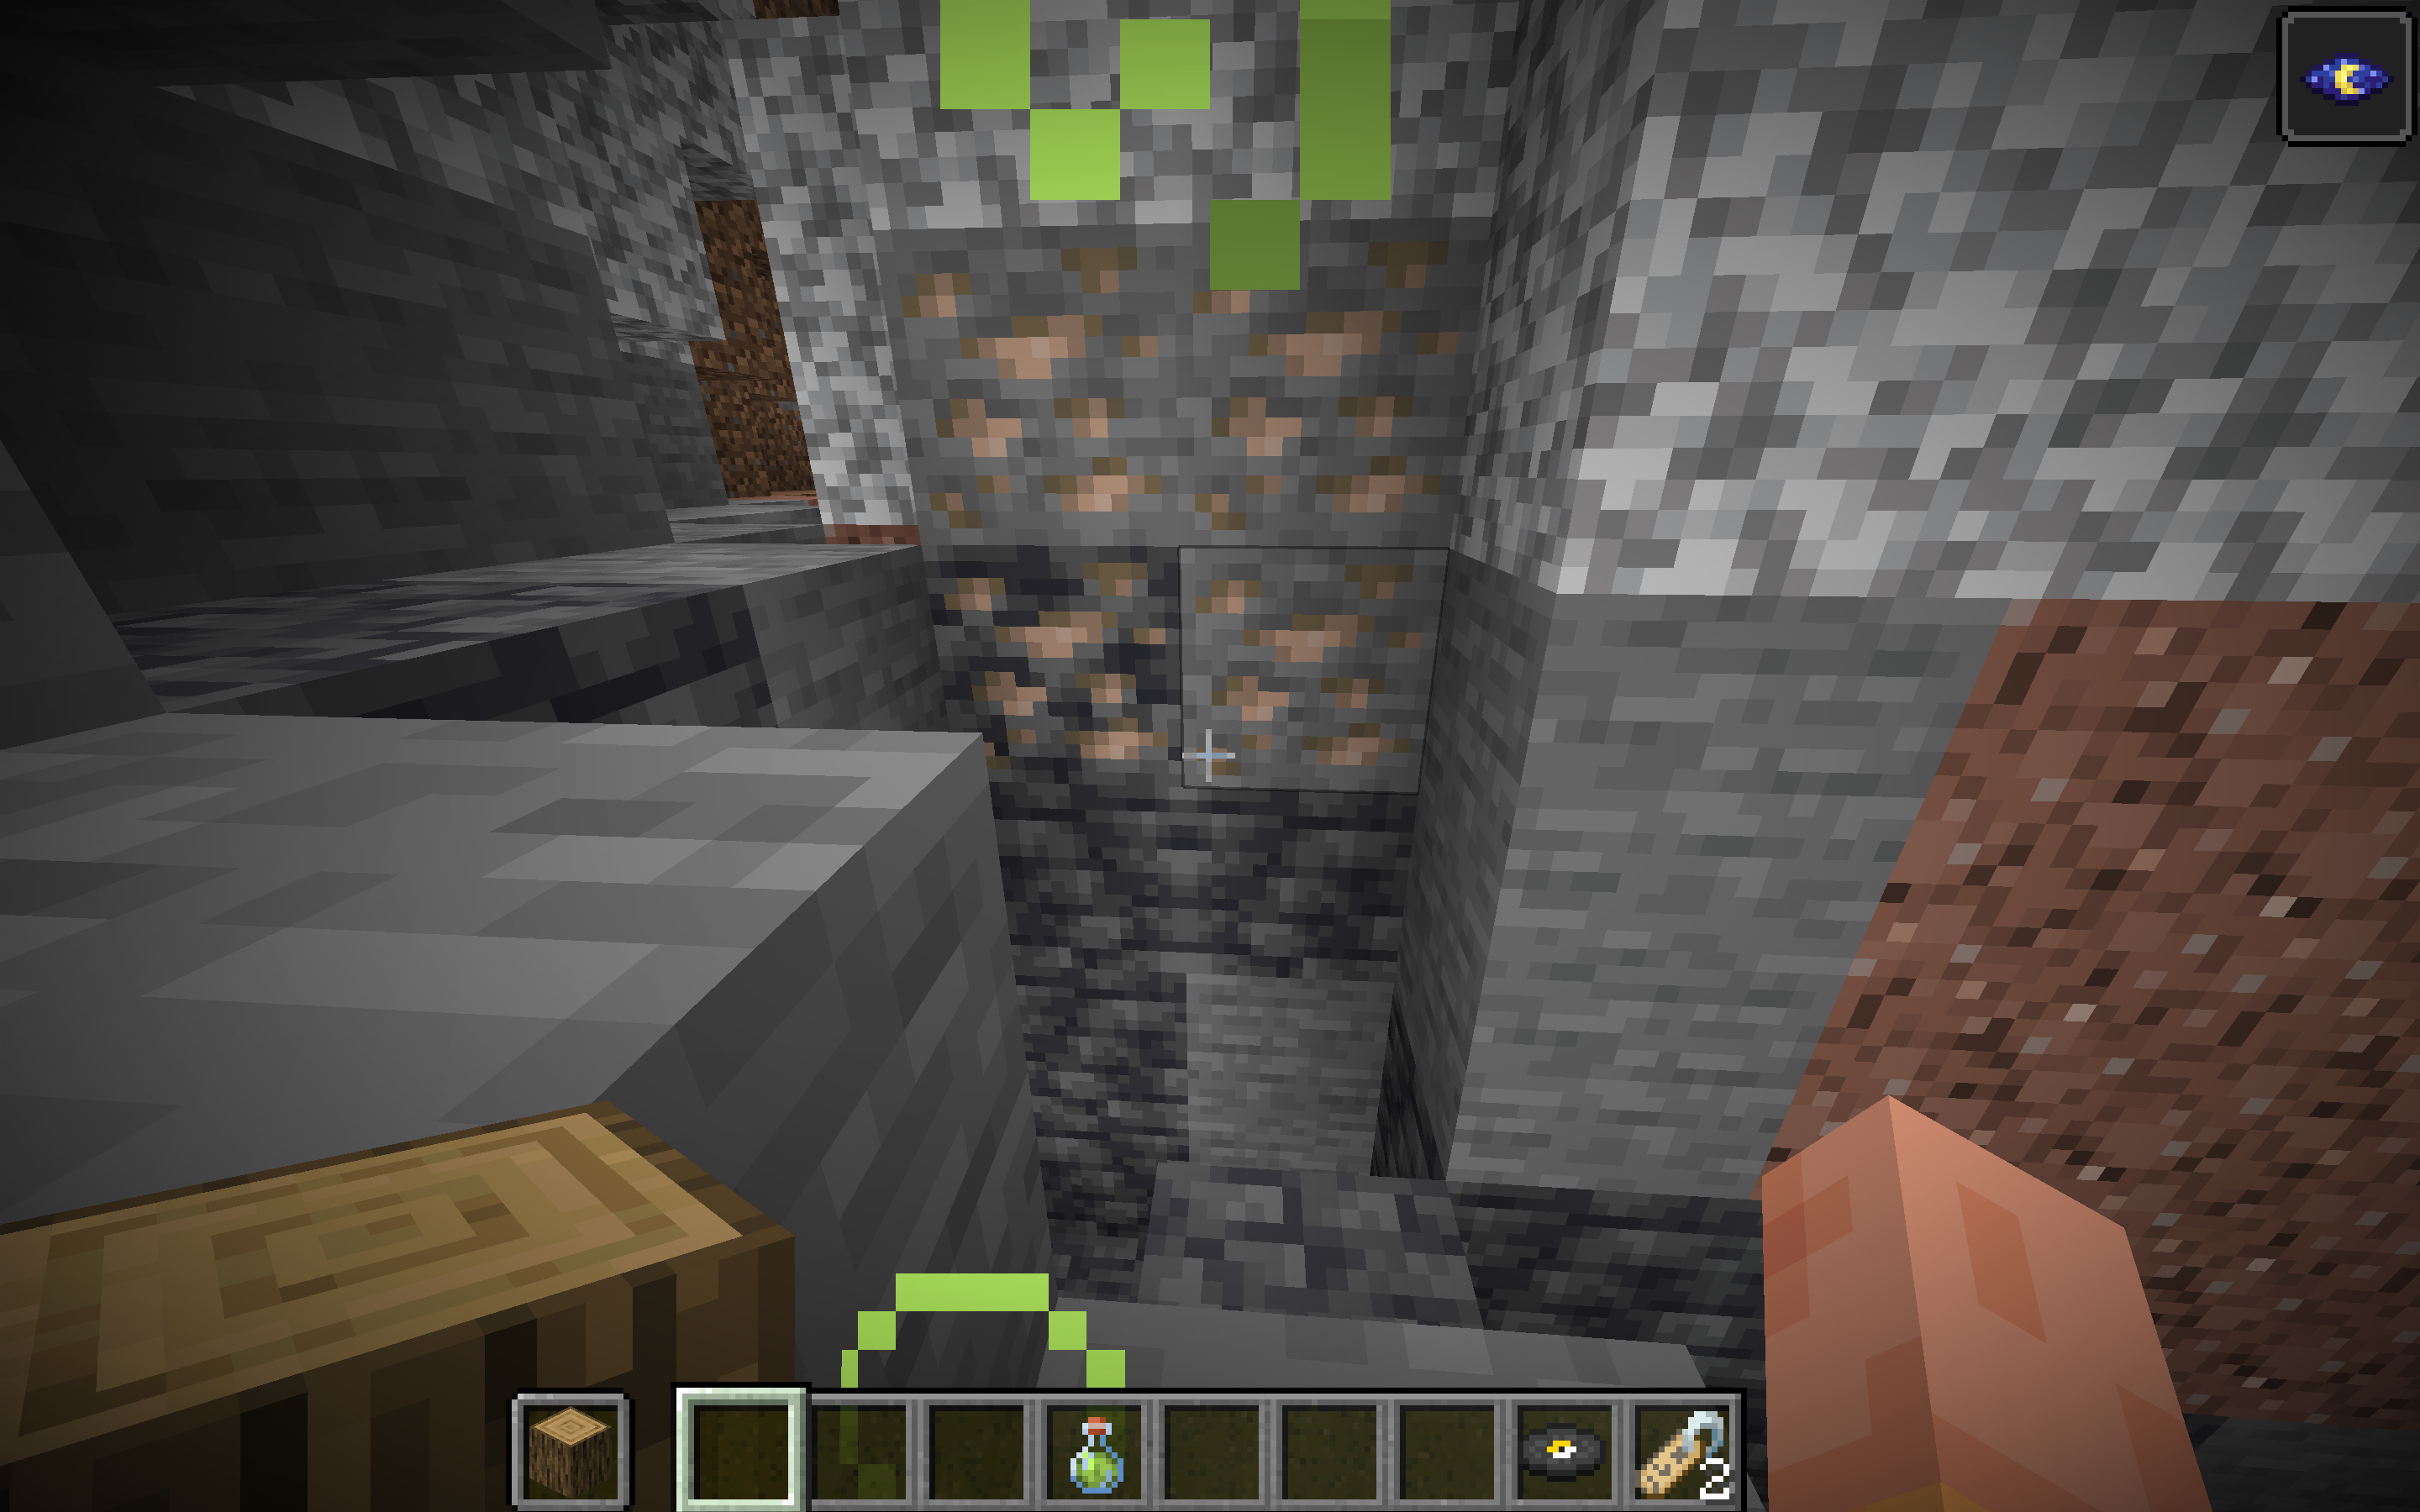iron: (1180, 550, 1477, 810)
